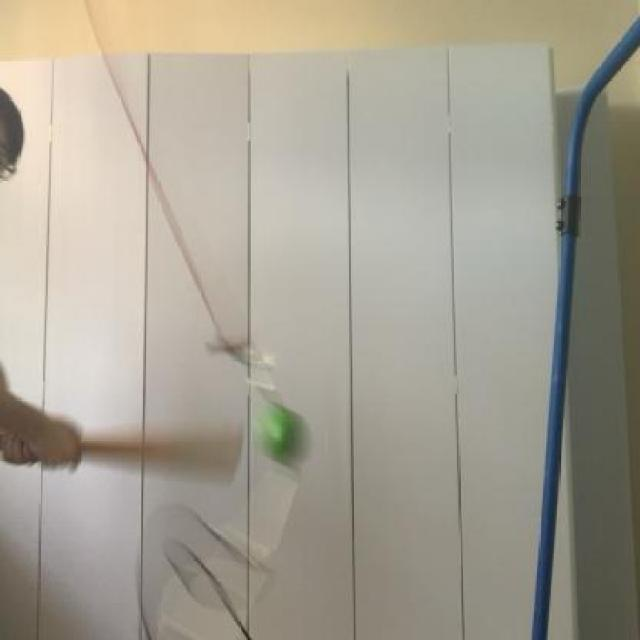baseball: (250, 387, 310, 475)
